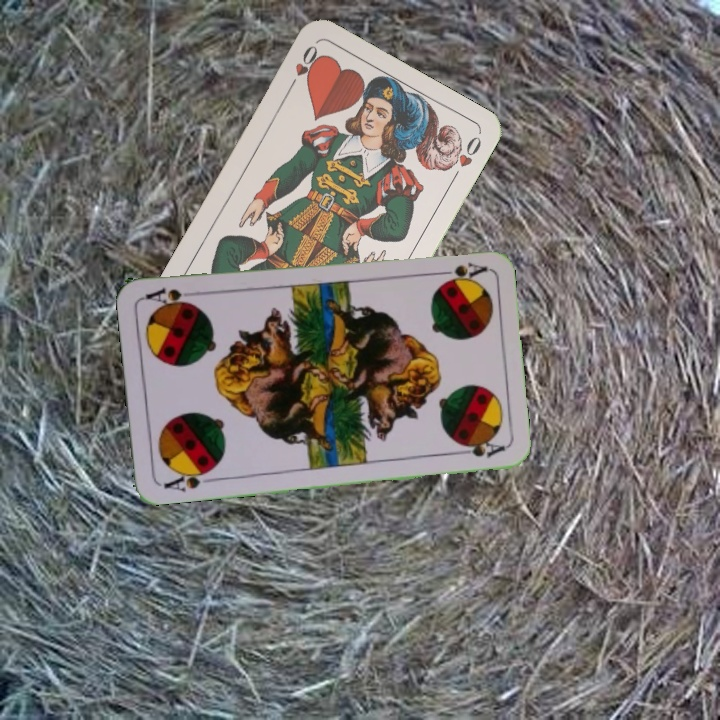HO: (283, 41, 324, 94)
SA: (159, 464, 216, 494), (429, 258, 489, 283)
